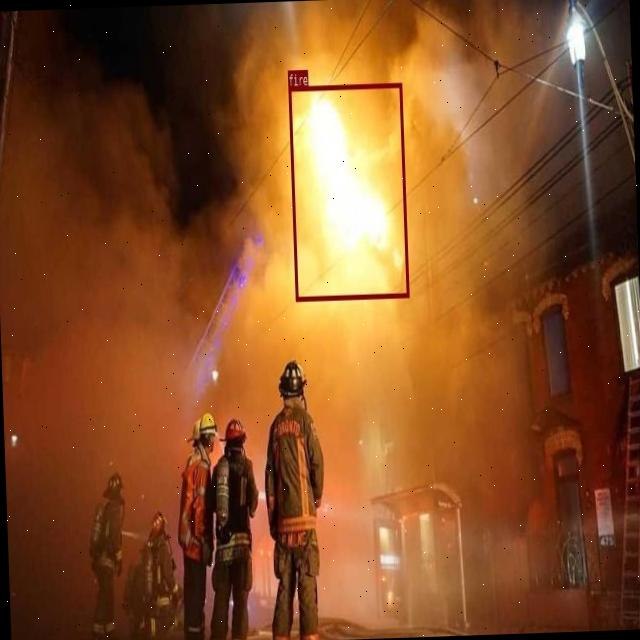fire: (288, 82, 408, 300)
